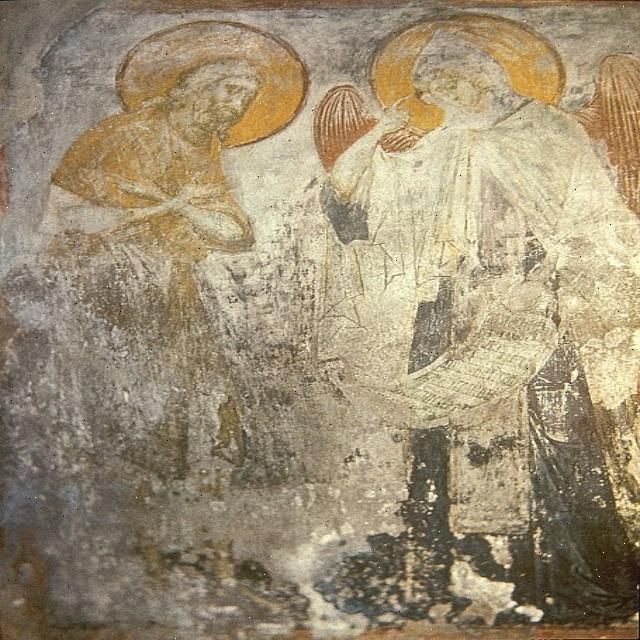angel: (312, 16, 640, 358)
aura: (112, 20, 312, 151), (370, 14, 569, 134)
saint: (35, 18, 309, 416)
scroll: (356, 306, 566, 421)
wing: (572, 36, 640, 219), (314, 82, 376, 183)
